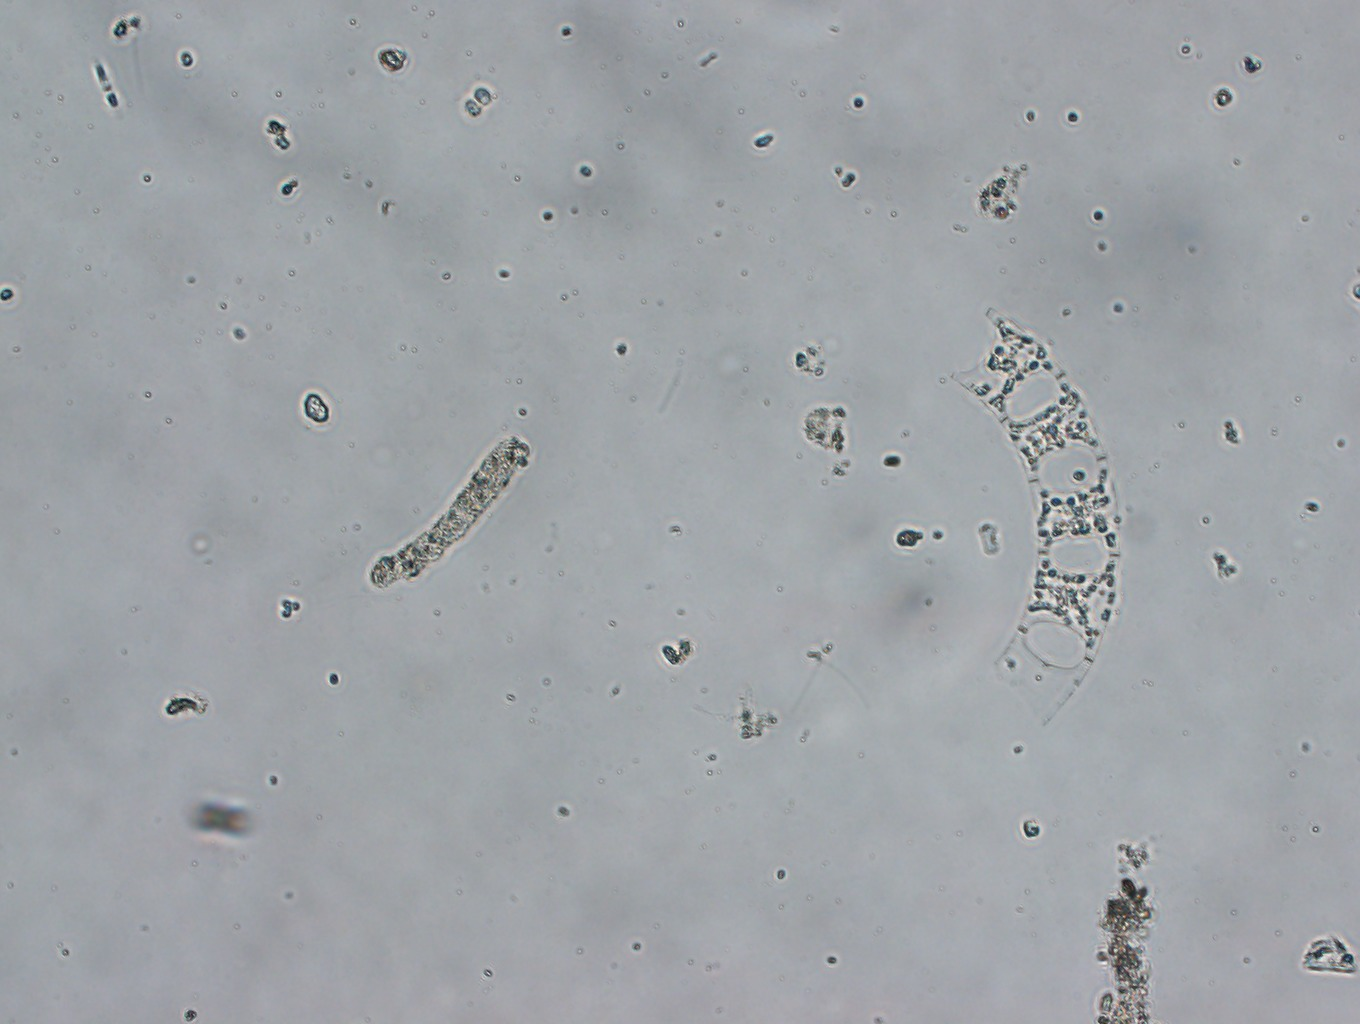eucampia: (933, 316, 1136, 765)
